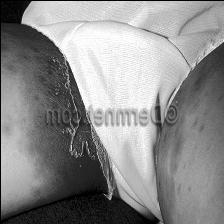Toxin: (27, 40, 52, 100), (56, 161, 103, 191), (56, 60, 82, 106), (60, 127, 94, 162), (156, 134, 174, 190), (180, 72, 200, 106)
